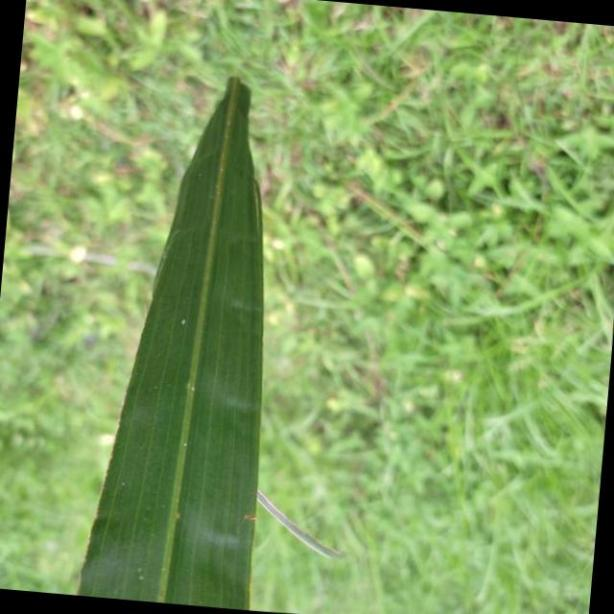Boron: (80, 59, 264, 614)
